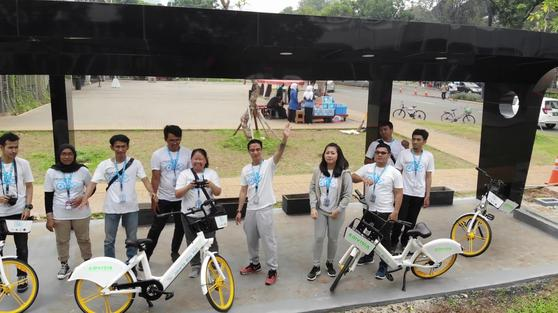bike: (65, 195, 238, 313), (327, 204, 467, 299), (442, 164, 523, 264), (1, 213, 46, 312)
